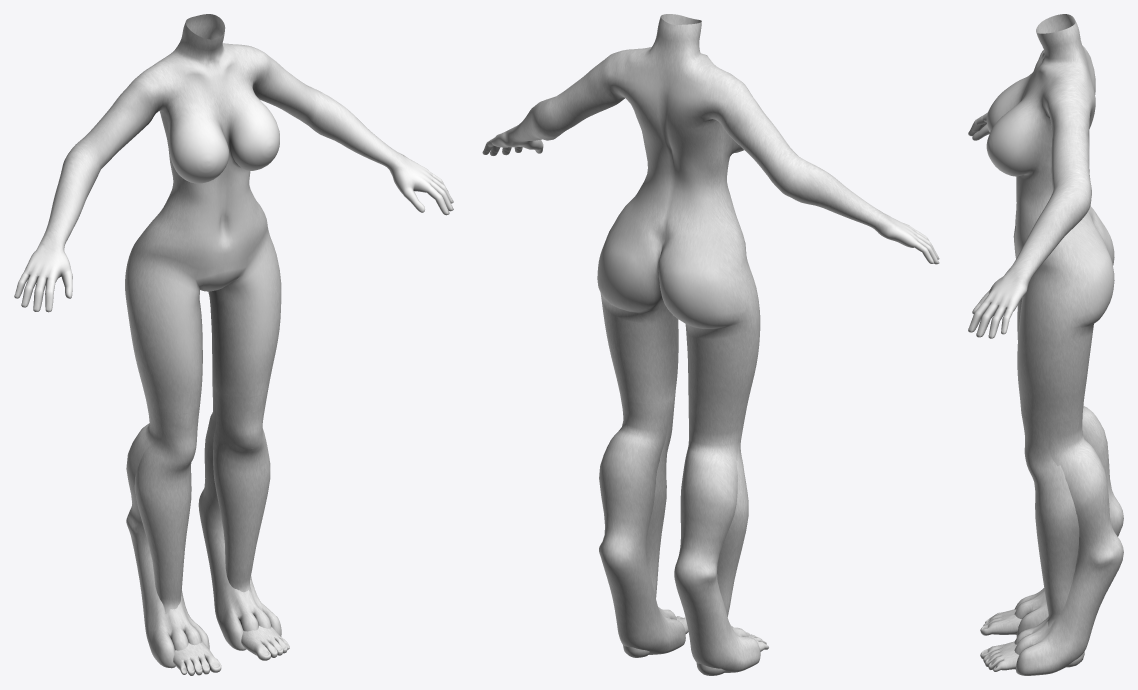
File: MyBody substance painter Together.obj
3 renders of one model, left to right at view 1: azimuth 30°, elevation 25°; view 2: azimuth 150°, elevation 25°; view 3: azimuth 270°, elevation 25°, orthographic. The views are drawn at different scales.
Visible parts, largest first — view 1: Body, PlantiLegs, Digilegs, CrotchSFW; view 2: Body, Digilegs, PlantiLegs; view 3: Body, Digilegs, PlantiLegs.
Boxes of the visible parts, x1=… form: Body: x1=14, y1=14, x2=453, y2=413; PlantiLegs: x1=134, y1=387, x2=289, y2=675; Digilegs: x1=126, y1=385, x2=281, y2=668; CrotchSFW: x1=195, y1=267, x2=246, y2=291; Body: x1=482, y1=14, x2=939, y2=419; Digilegs: x1=599, y1=394, x2=760, y2=672; PlantiLegs: x1=623, y1=394, x2=768, y2=675; Body: x1=968, y1=14, x2=1114, y2=422; Digilegs: x1=1014, y1=405, x2=1123, y2=675; PlantiLegs: x1=980, y1=413, x2=1084, y2=671.
Bounding box in the file's own units: 1.15 × 1.57 × 0.355.
1 material, 1 textured.
